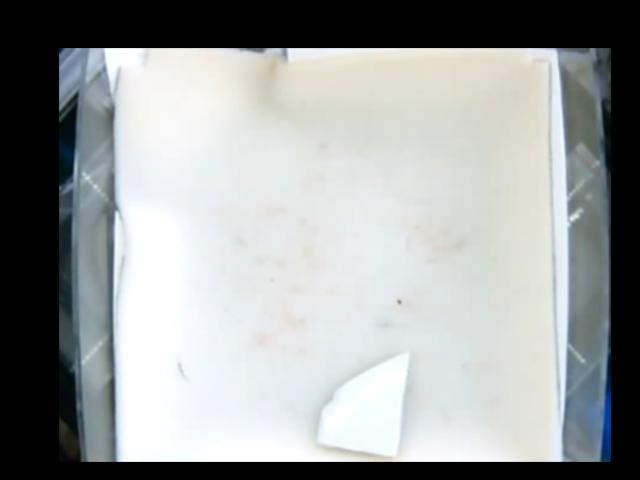China: (316, 349, 412, 458)
